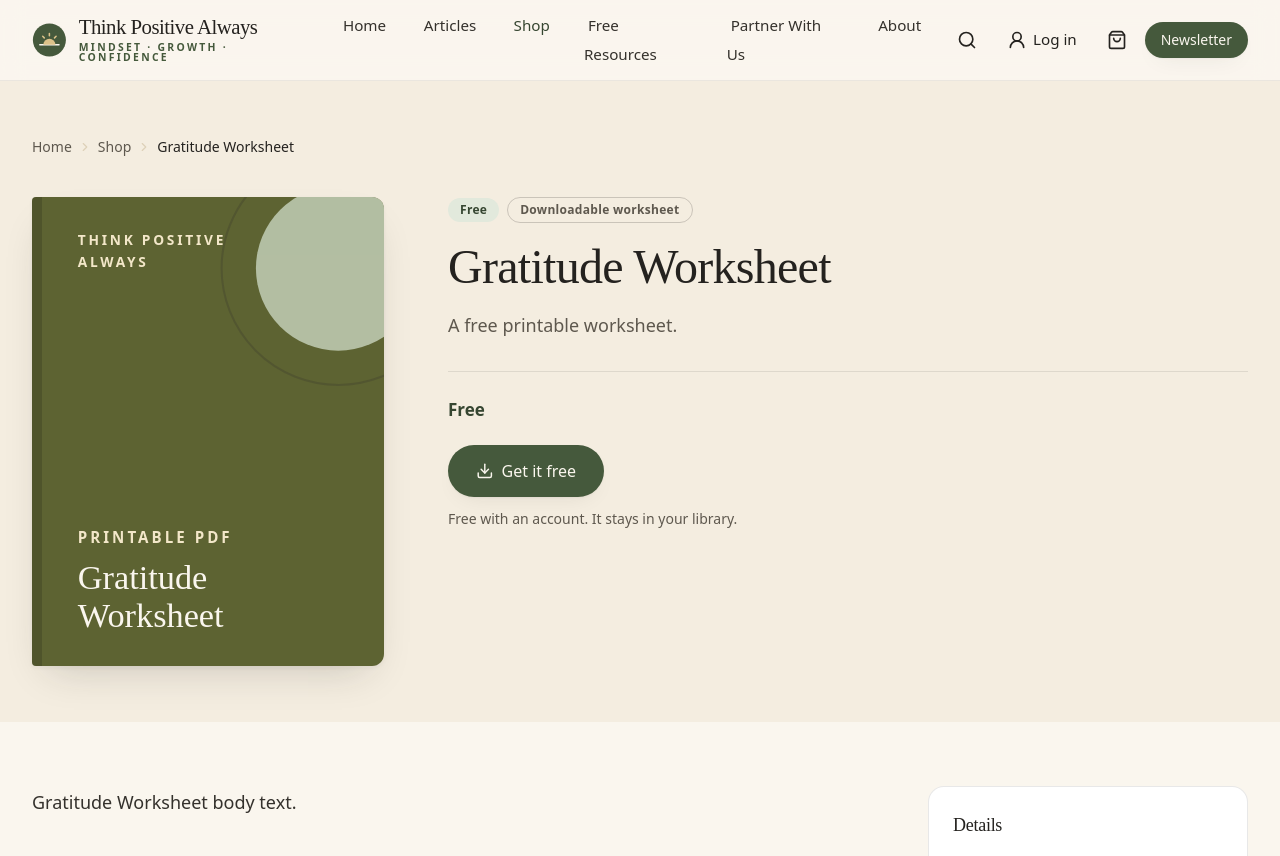
it: product page › free products are claimed into the library after signing in
The image size is (1280, 856).
Click the button "Get it free".
click(526, 471)  # box [448,445,604,497]
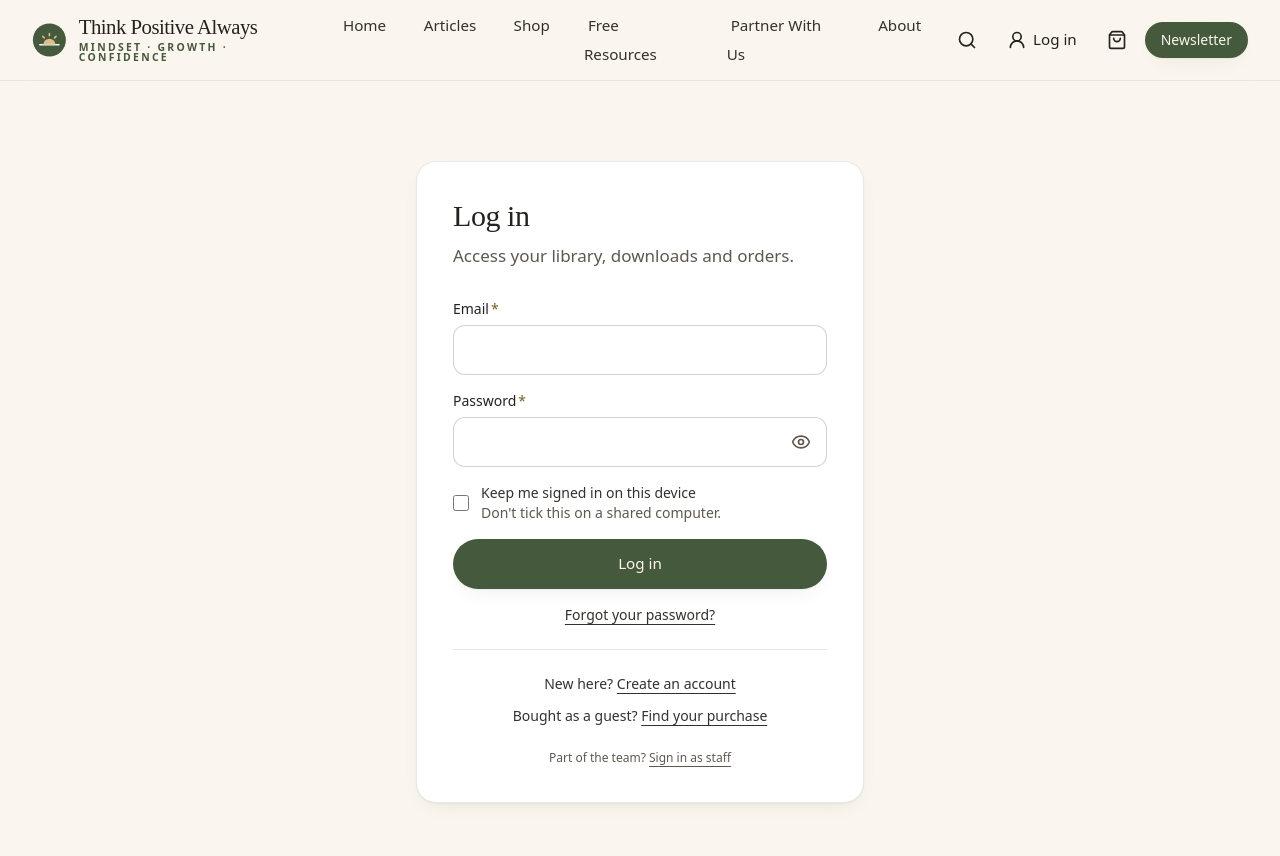
Result: the heading "Log in" is shown at [453,199,530,232]
